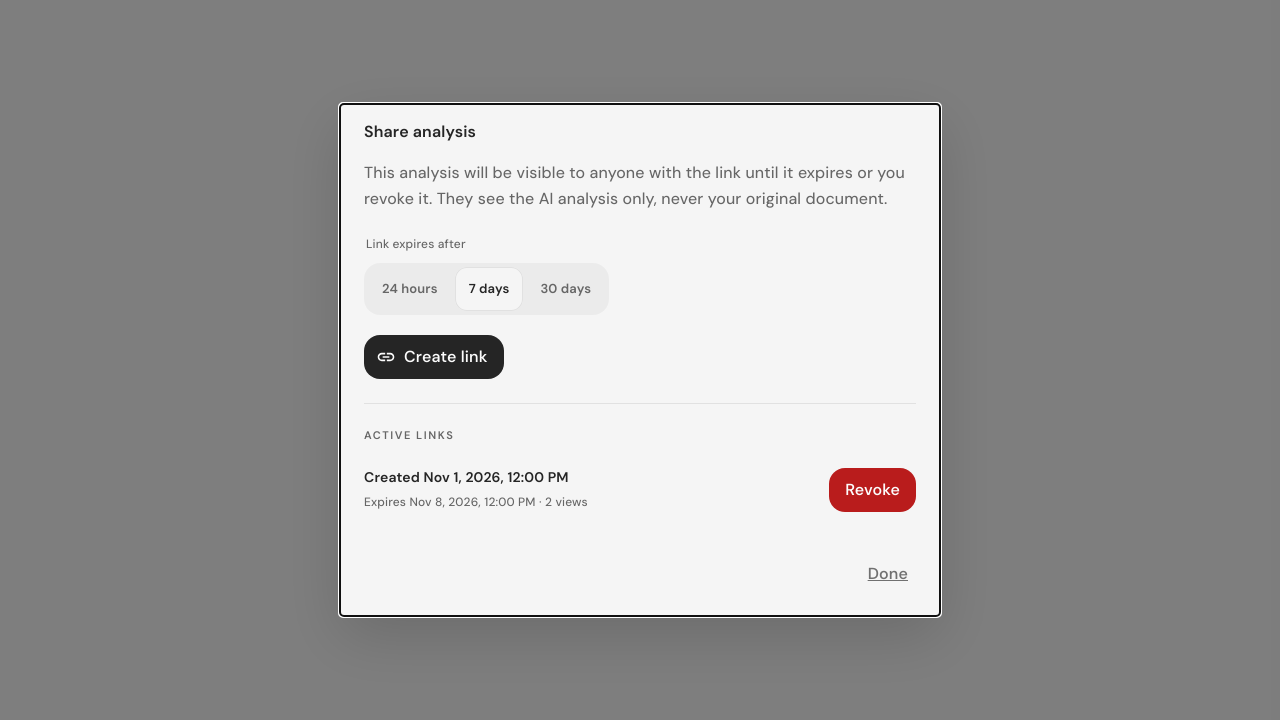
Test: ShareLetterDialog › asks before revoking a link from the active list
Click the button with aria-label "revoke link created": click(873, 490) top-left (829, 468), bottom-right (916, 512)
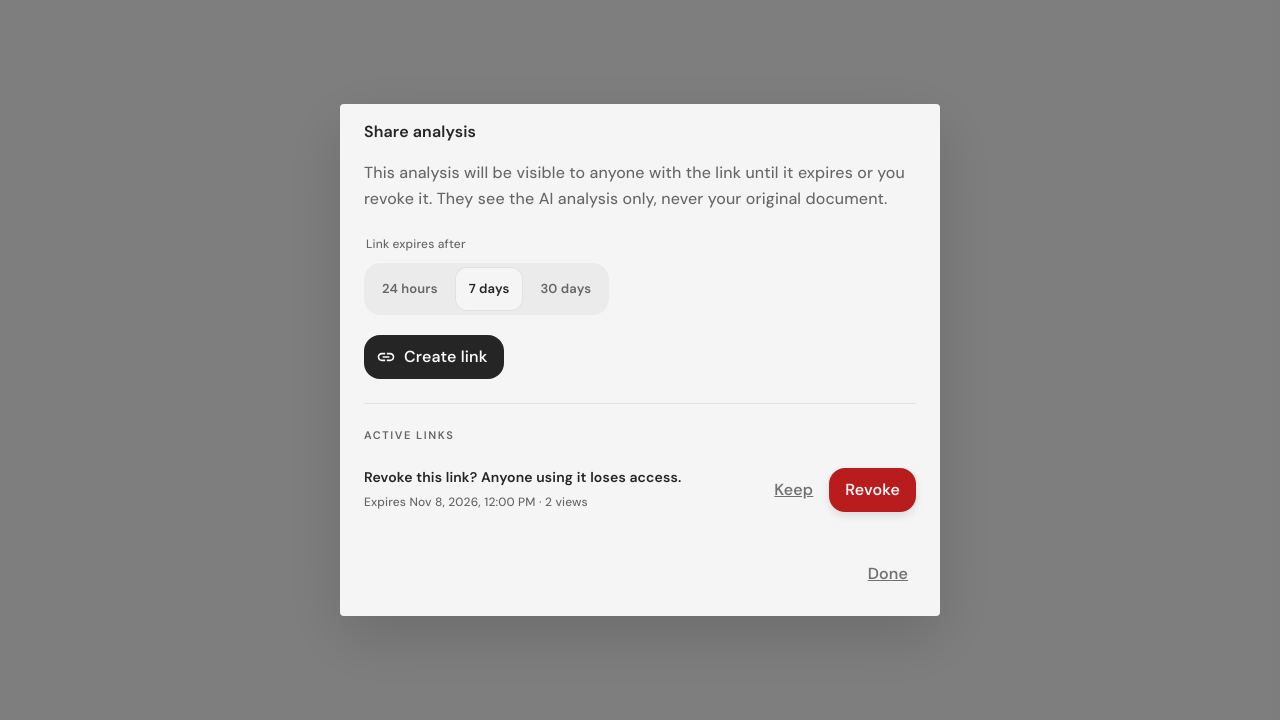
Expected: the text "Revoke this link? Anyone using it loses access." is shown, top-left (364, 468), bottom-right (681, 486)
Click the button with aria-label "confirm revoke link created": click(873, 490) top-left (829, 468), bottom-right (916, 512)
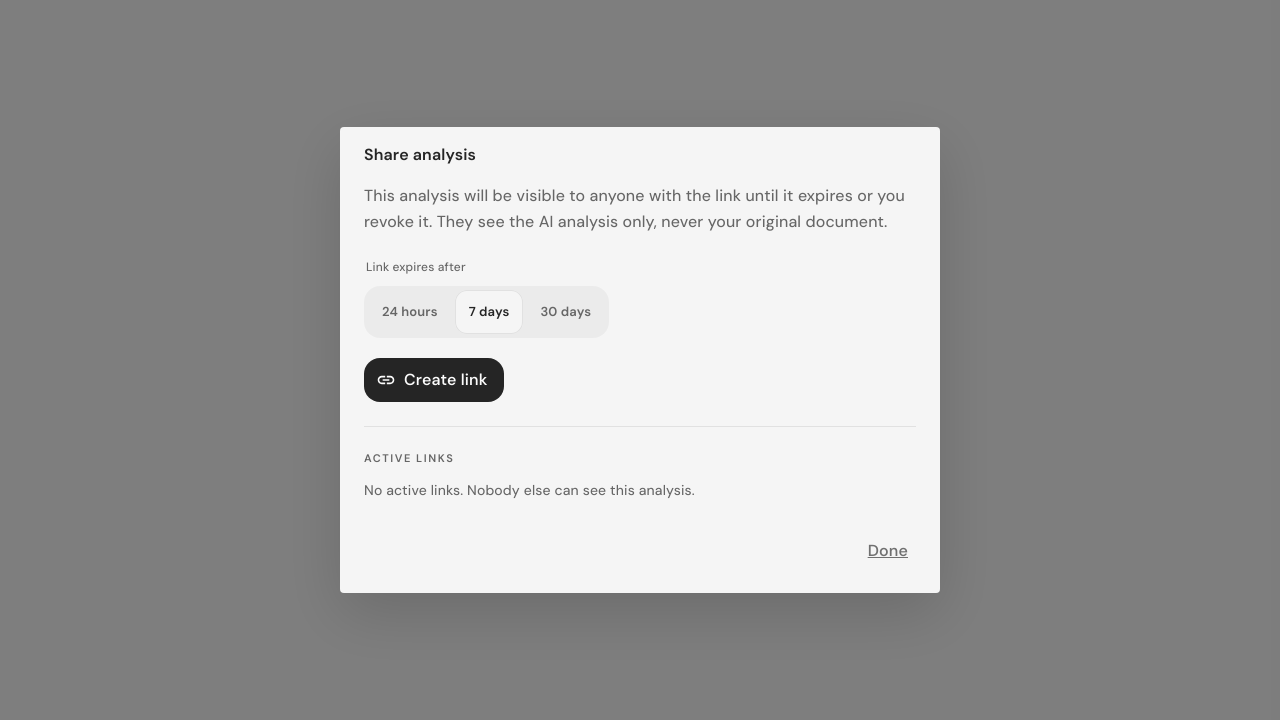
Expected: the text "No active links. Nobody else can see this analysis." is shown, top-left (364, 480), bottom-right (695, 498)
